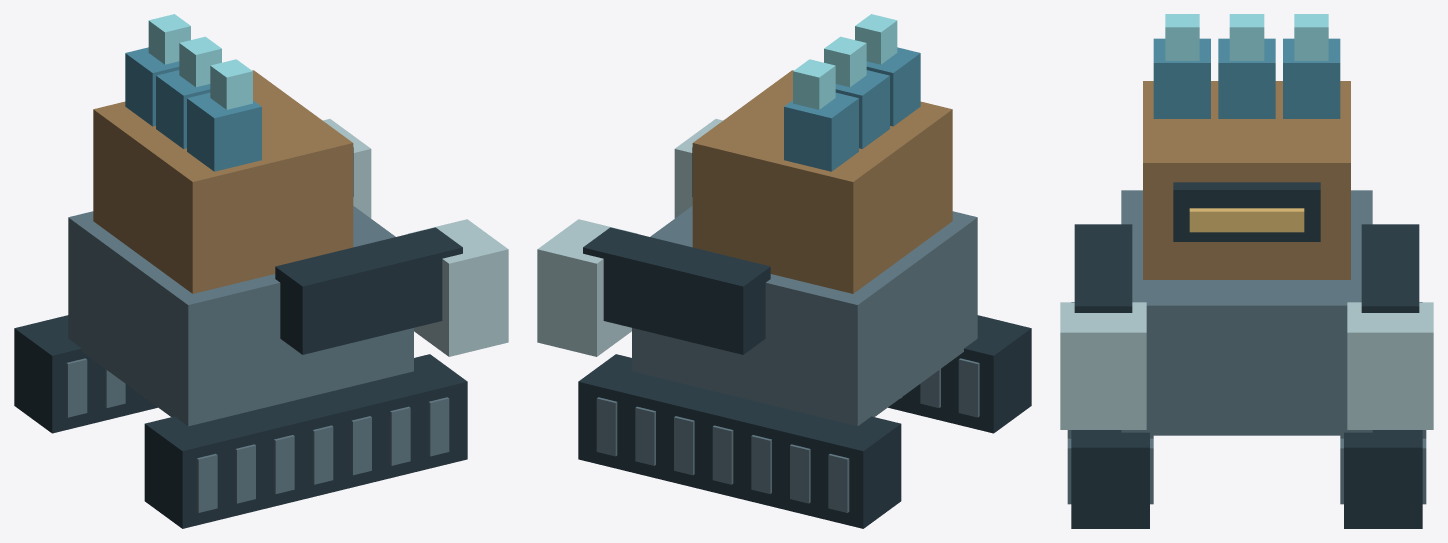
The model's file is crystal-miner.glb.
3 views of the same model, side by side, from view 1: azimuth 30°, elevation 25°; view 2: azimuth 150°, elevation 25°; view 3: azimuth 270°, elevation 25° (orthographic). The views are drawn at different scales.
Visible parts, largest first — view 1: UpperHull, Chassis, Tracks, ToolArms, TreadRibs, ToolClamps, CrystalBase, CrystalTip; view 2: UpperHull, Chassis, Tracks, ToolArms, TreadRibs, ToolClamps, CrystalBase, CrystalTip; view 3: Chassis, UpperHull, ToolClamps, Tracks, CrystalBase, ToolArms, OpticHousing, CrystalTip, OpticLens, TreadRibs.
Part boxes in pixels (x1,y1,x2,y2): UpperHull: [93, 70, 353, 293]; Chassis: [68, 206, 413, 426]; Tracks: [14, 315, 467, 528]; ToolArms: [275, 227, 462, 354]; TreadRibs: [66, 358, 449, 512]; ToolClamps: [323, 119, 508, 356]; CrystalBase: [125, 47, 261, 171]; CrystalTip: [148, 14, 252, 109]; UpperHull: [692, 70, 952, 293]; Chassis: [632, 206, 977, 426]; Tracks: [578, 315, 1031, 528]; ToolArms: [583, 227, 770, 354]; TreadRibs: [596, 358, 979, 512]; ToolClamps: [537, 119, 722, 356]; CrystalBase: [784, 47, 920, 171]; CrystalTip: [793, 14, 897, 109]; Chassis: [1121, 190, 1372, 435]; UpperHull: [1143, 81, 1350, 279]; ToolClamps: [1060, 302, 1433, 429]; Tracks: [1071, 302, 1422, 528]; CrystalBase: [1153, 38, 1340, 118]; ToolArms: [1074, 224, 1419, 312]; OpticHousing: [1173, 182, 1320, 241]; CrystalTip: [1165, 14, 1328, 60]; OpticLens: [1189, 208, 1304, 232]; TreadRibs: [1067, 430, 1426, 504].
Size of the model in its own units: 5.4 by 6.38 by 5.2.
